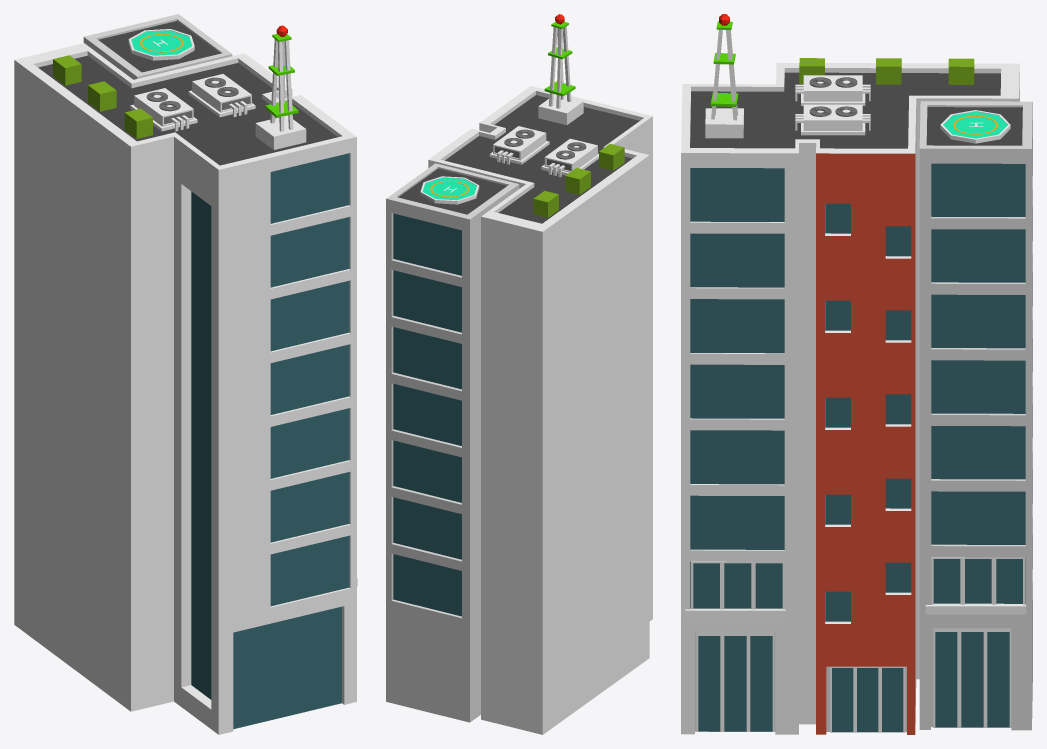
File: Building_01.glb
The picture shows the model from 3 angles, left to right: view 1: azimuth 30°, elevation 25°; view 2: azimuth 150°, elevation 25°; view 3: azimuth 270°, elevation 25°; orthographic projection. The views are drawn at different scales.
Parts seen in each view (by area): view 1: Cube.13699; view 2: Cube.13699; view 3: Cube.13699.
Part boxes in pixels (bbox=[...]): Cube.13699: bbox=[14, 14, 357, 734]; Cube.13699: bbox=[386, 14, 652, 734]; Cube.13699: bbox=[681, 14, 1032, 734].
Bounding box in the file's own units: 0.1918 × 0.6766 × 0.3114.
